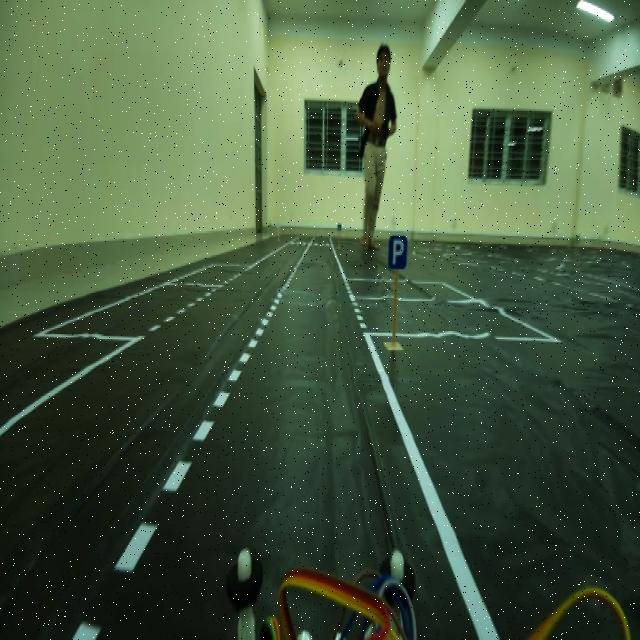parking: (382, 230, 408, 275)
